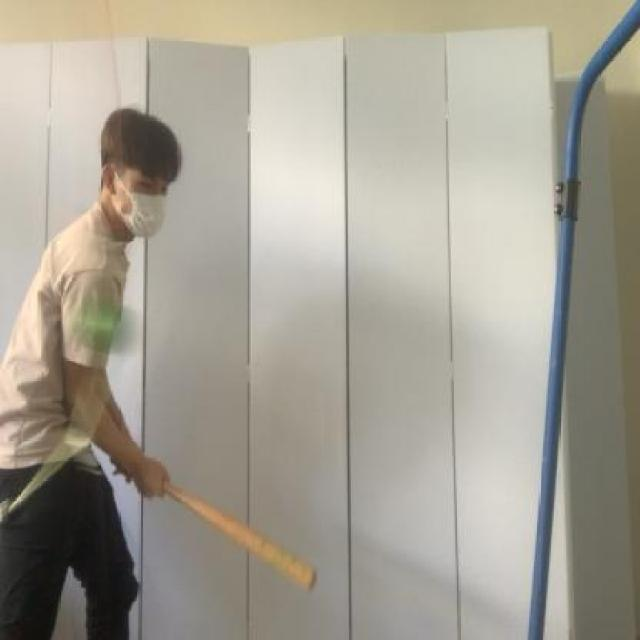baseball: (72, 284, 148, 365)
